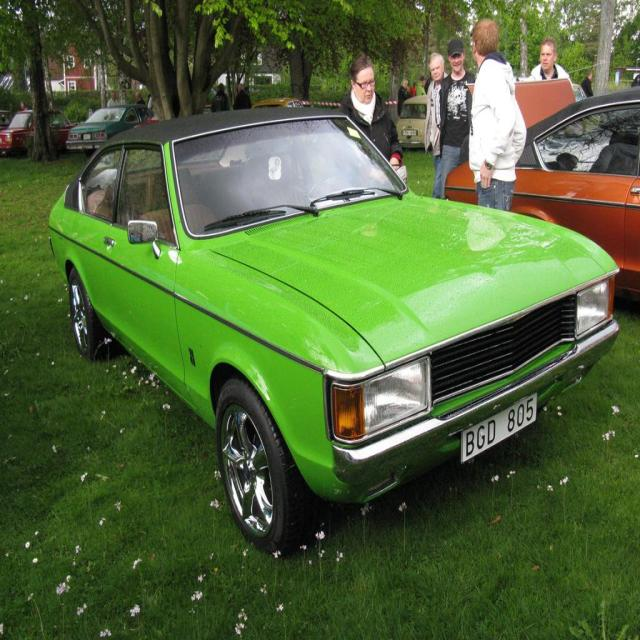car: (47, 102, 619, 552)
